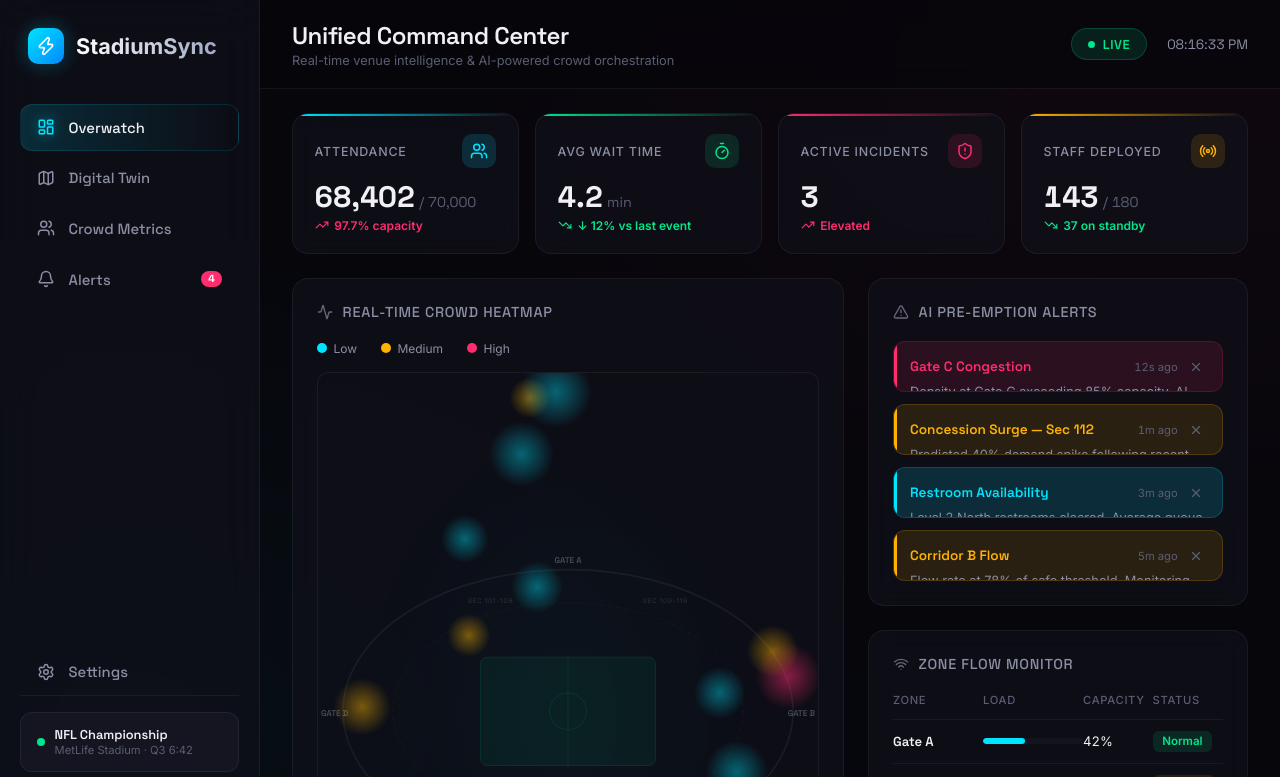
Test: StadiumSync App › switches to Crowd Metrics view on nav click
Click the button "Crowd Metrics".
click(104, 228)  # box x1=37 y1=219 x2=172 y2=238
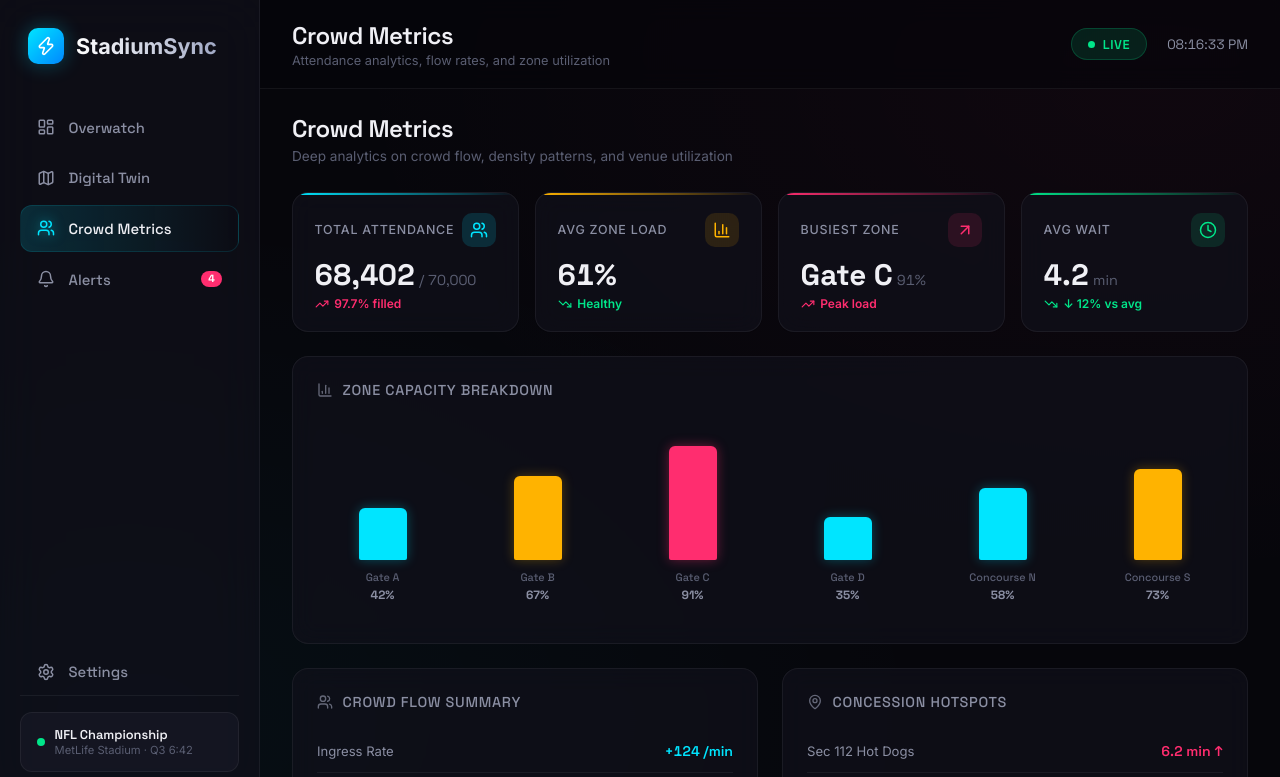
Expected: the text "Total Attendance" is shown, x1=315 y1=222 x2=454 y2=237
Expected: the text "Crowd Flow Summary" is shown, x1=317 y1=693 x2=521 y2=711
